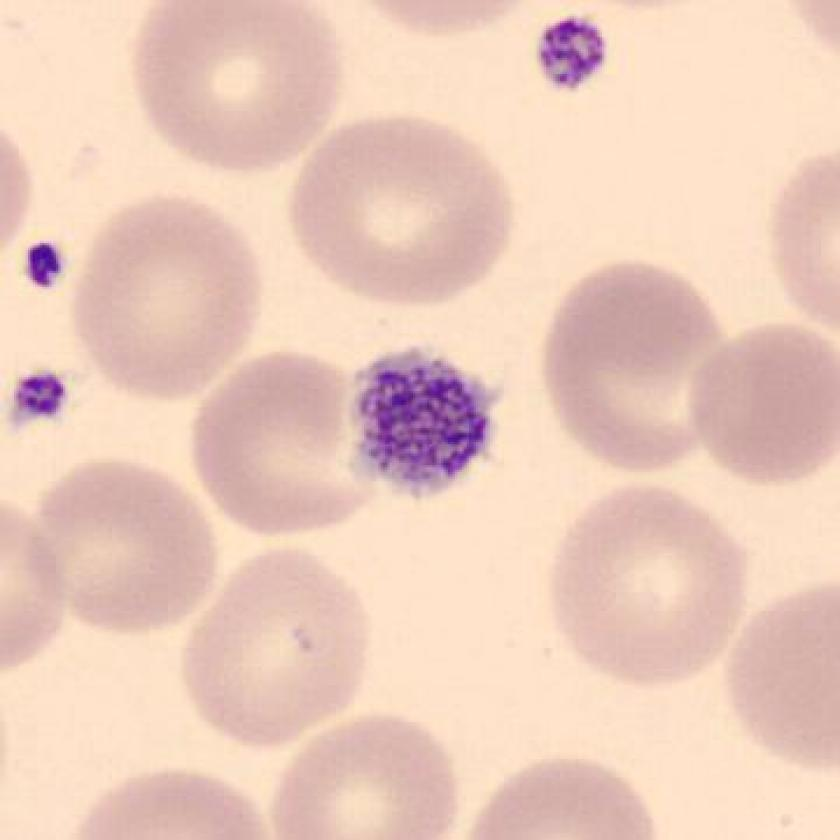platelets: (337, 342, 507, 513), (524, 10, 622, 105), (10, 357, 78, 434), (15, 230, 78, 304)
